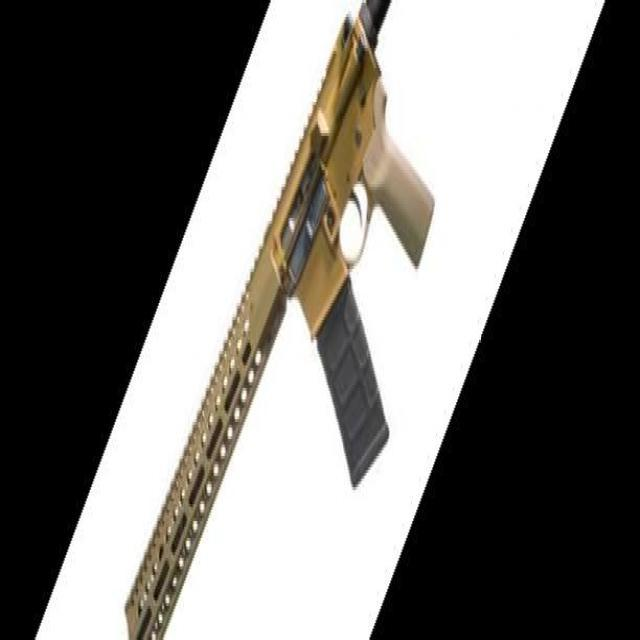weapon: (125, 0, 436, 640)
